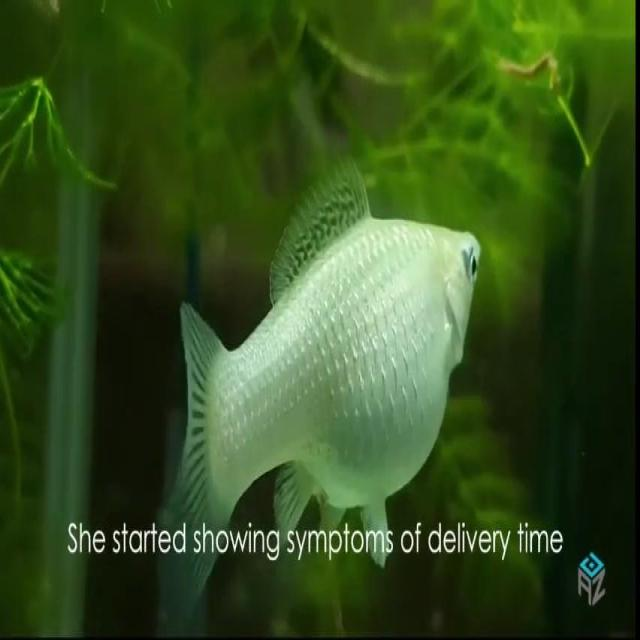PlatyFish: (130, 130, 489, 640)
